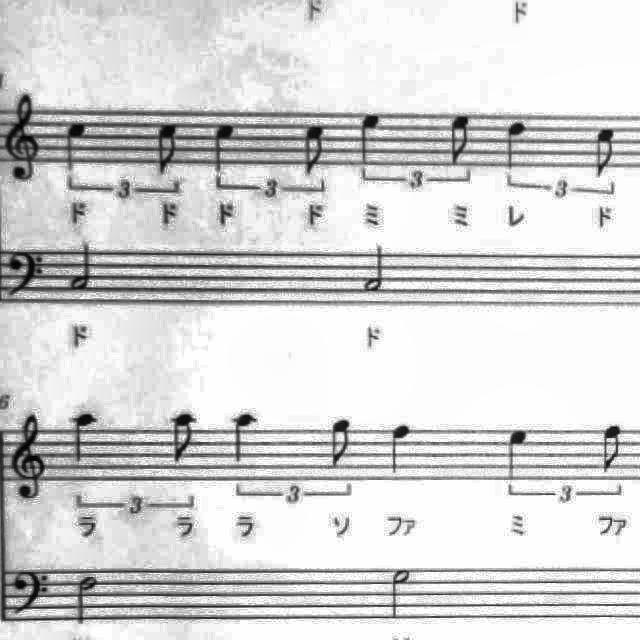Bass-clef: (0, 240, 50, 304), (8, 566, 56, 622)
Eighth-note: (439, 108, 476, 176), (150, 116, 188, 180), (586, 120, 624, 182), (296, 119, 334, 181), (323, 409, 361, 471), (165, 409, 203, 471), (595, 419, 631, 479)
Half-note: (65, 238, 103, 298), (384, 562, 418, 626), (70, 568, 104, 628), (358, 241, 392, 299)
Quarter-note: (224, 405, 264, 467), (66, 406, 105, 469), (499, 422, 536, 486), (382, 418, 418, 482), (58, 114, 94, 178), (206, 117, 242, 179), (498, 114, 534, 176), (350, 108, 386, 168)
Treble-clef: (3, 412, 53, 506), (0, 89, 46, 188)
